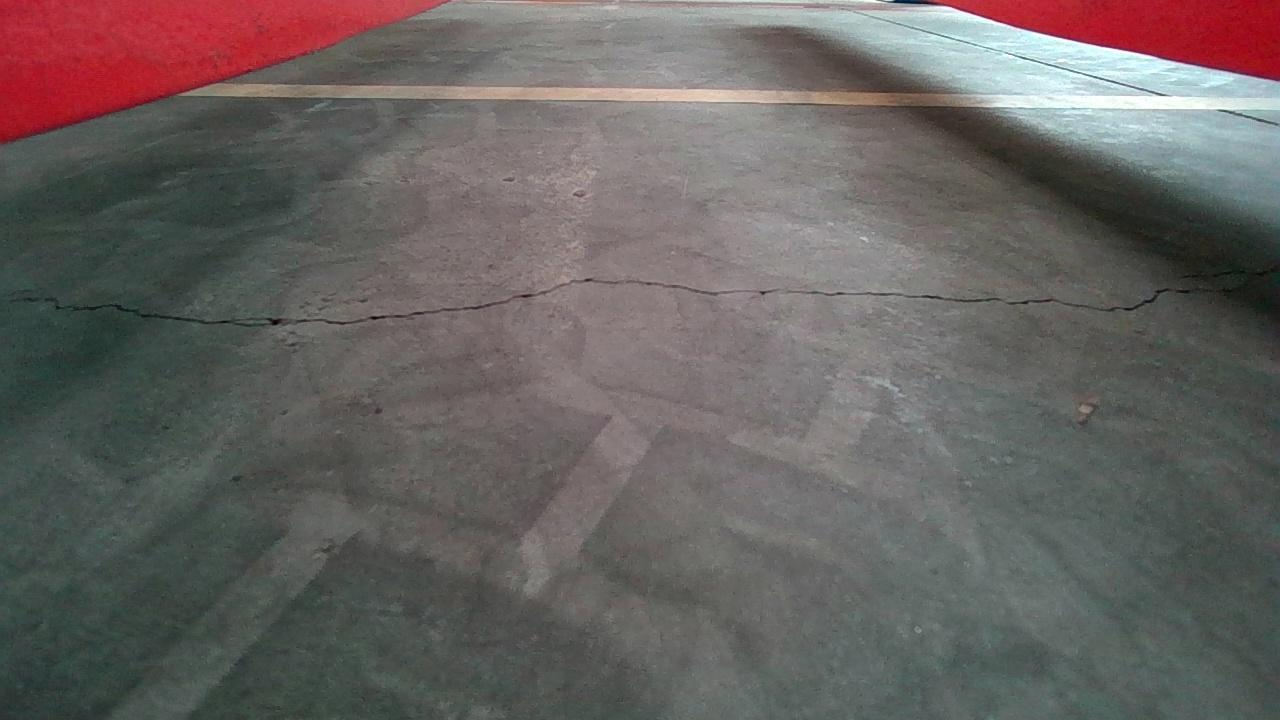yellow_line: (180, 78, 1280, 112)
